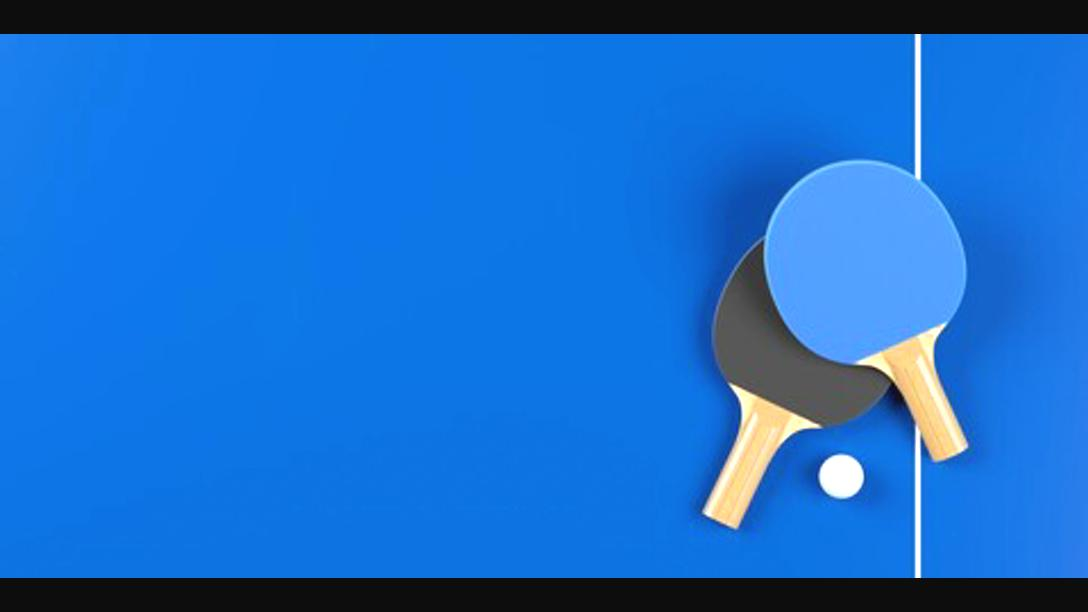Table-Tennis-Ball: (820, 454, 864, 498)
